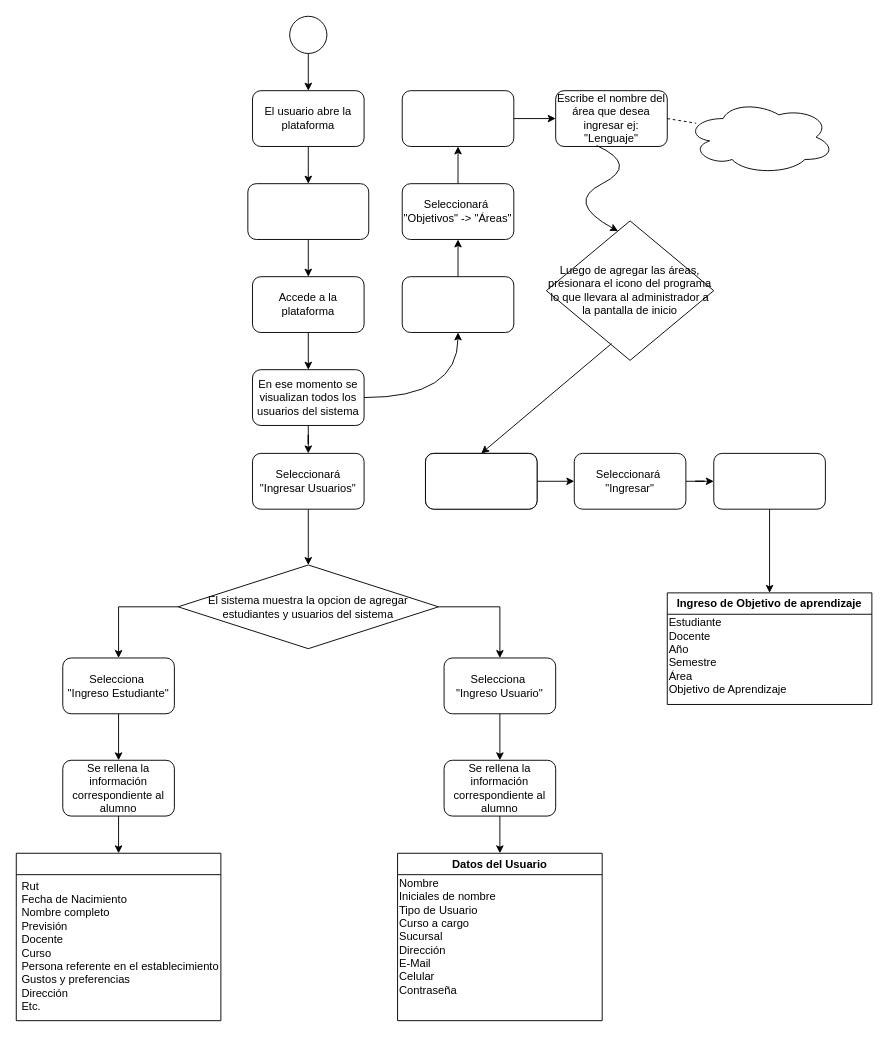
This 888x1037 diagram has some shape labels left out. The box of each missing label's shape, as (x1, y1, x2, y2) in pixels:
Cada área tiene sus objetivos de aprendizaje ligados: (685, 99, 835, 174)
Datos del estudiante: (15, 852, 221, 1021)
Rellena los campos: Rut, Contraseña y el tipo de cargo (ADMINISTRADOR): (247, 183, 369, 239)
Rellenara los datos requeridos: (713, 452, 825, 509)
Seleccionará "Ingresar Áreas": (401, 90, 514, 146)
Seleccionará "Mantenedores": (401, 276, 514, 332)
Seleccionará "Objetivos Semestrales": (425, 452, 537, 509)
